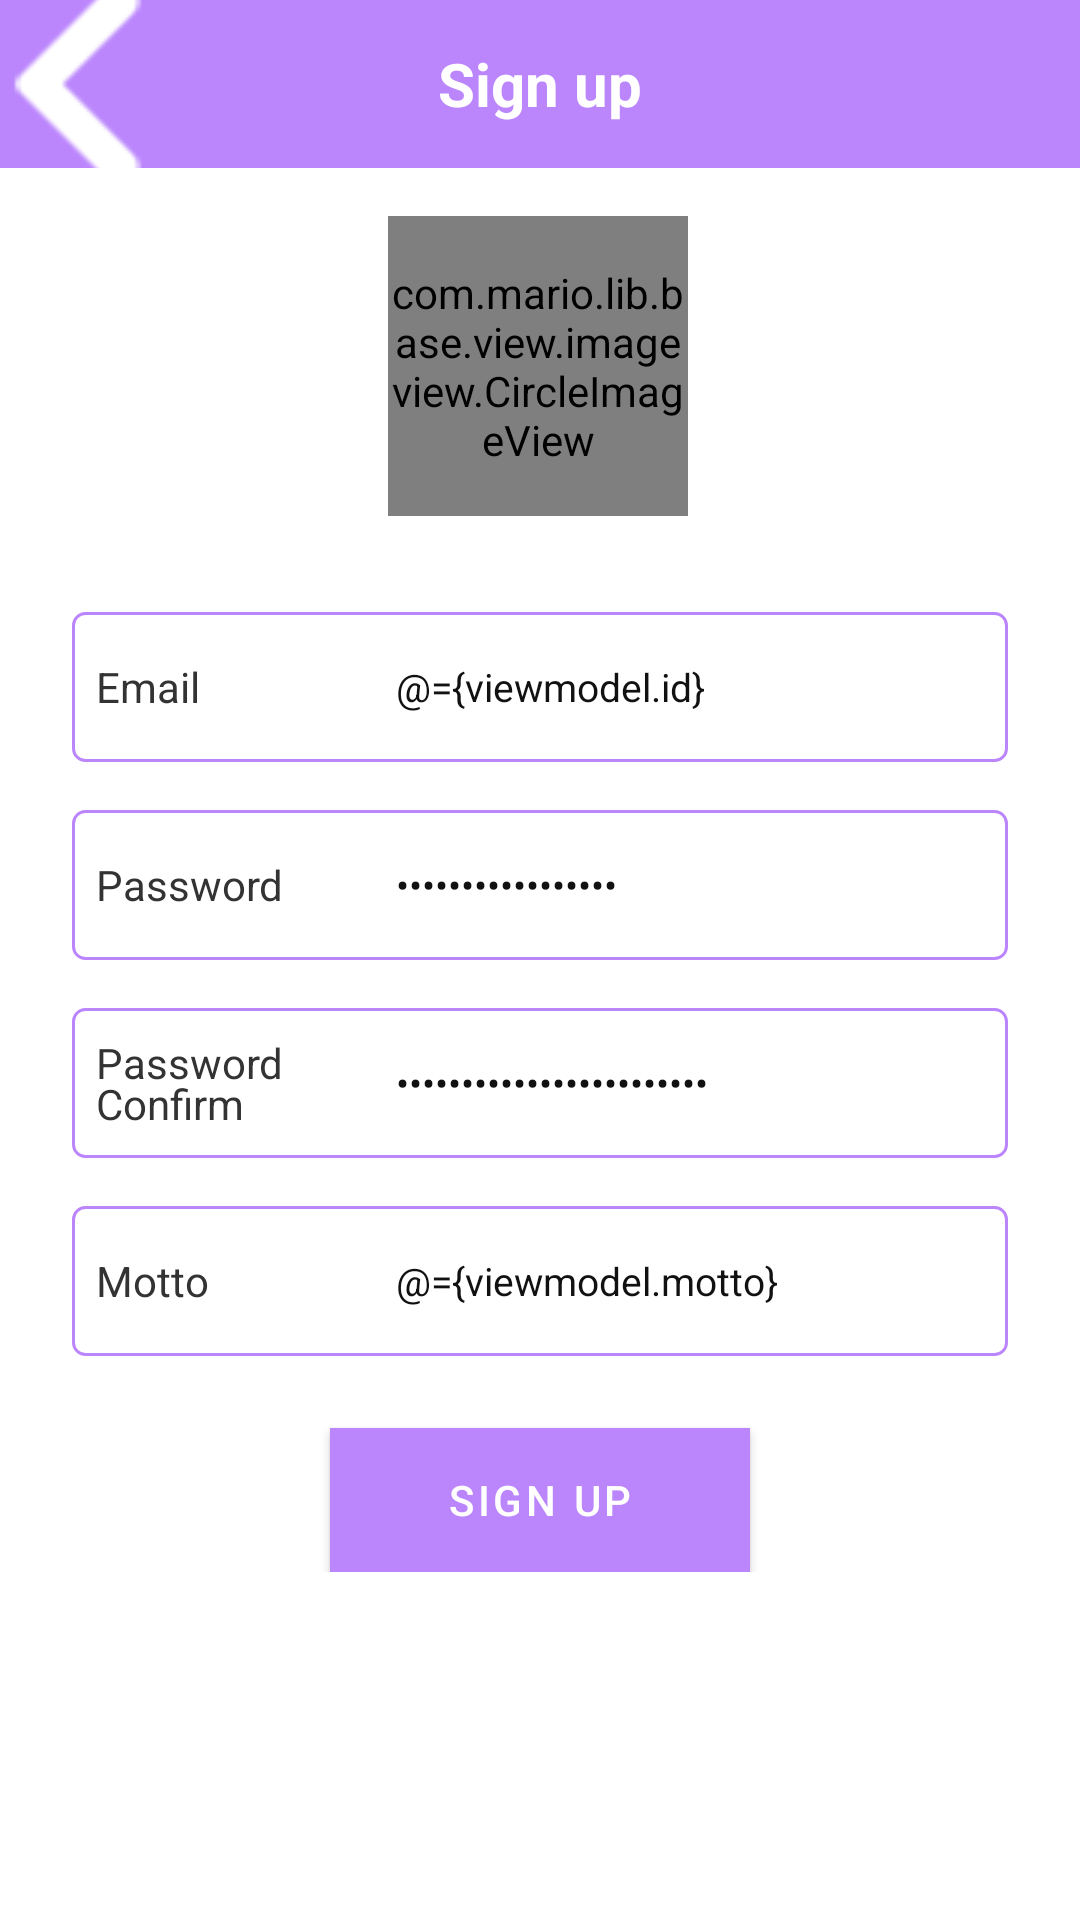

Icon click points for this 1080 x 1920 phone screenshot, format [x,y]:
back: [84,84]
